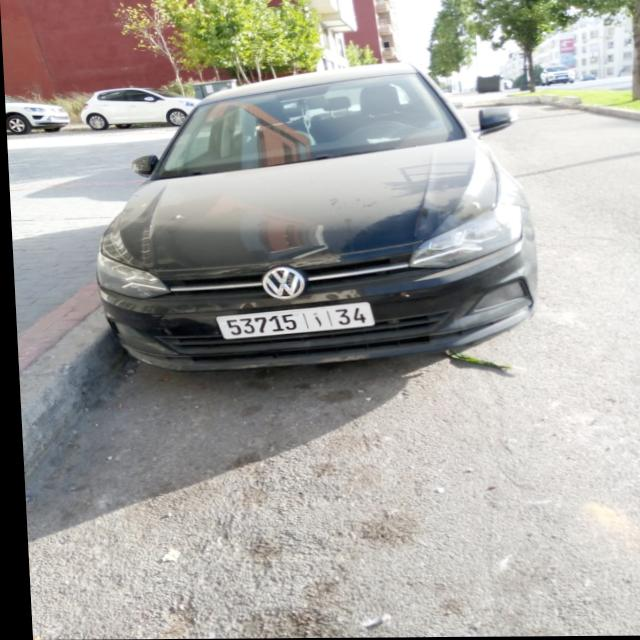License-Plate: (213, 303, 372, 340)
